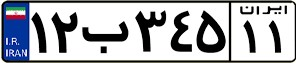character: (80, 10, 132, 58), (134, 4, 169, 58), (194, 5, 228, 58), (49, 6, 80, 56), (169, 5, 196, 60), (265, 16, 290, 57), (29, 6, 49, 57), (239, 17, 260, 57)
